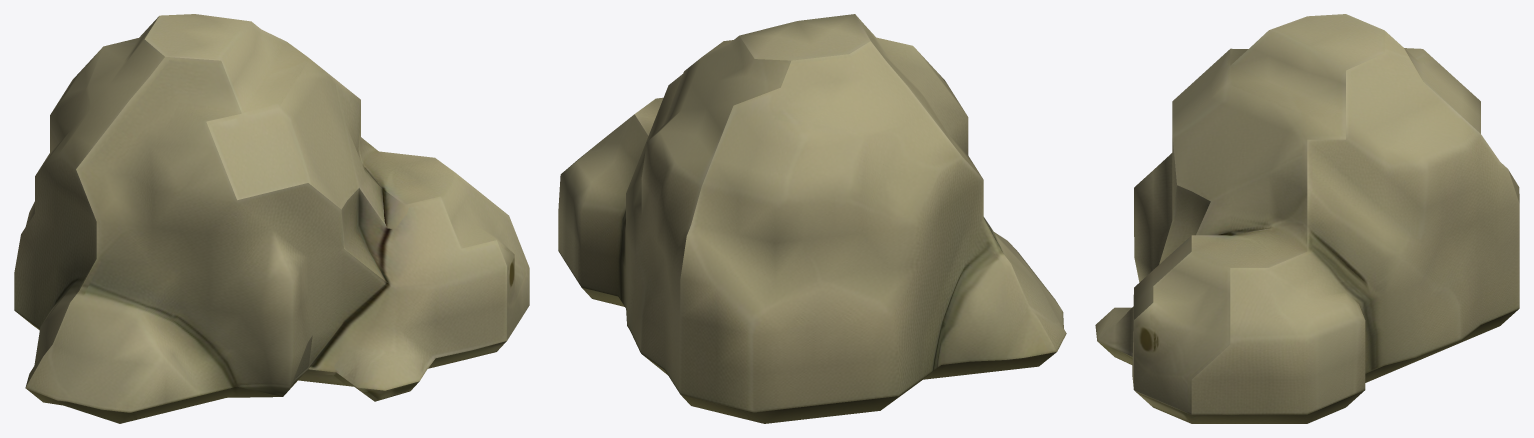
Rendered from rock_5.glb.
The picture shows the model from 3 angles, left to right: view 1: azimuth 30°, elevation 25°; view 2: azimuth 150°, elevation 25°; view 3: azimuth 270°, elevation 25°; orthographic projection. The views are drawn at different scales.
Visible parts, largest first — view 1: tmp7q1glar2.ply; view 2: tmp7q1glar2.ply; view 3: tmp7q1glar2.ply.
Boxes of the visible parts, x1,y1,x2,y2 form: tmp7q1glar2.ply: [14, 14, 529, 423]; tmp7q1glar2.ply: [558, 14, 1066, 423]; tmp7q1glar2.ply: [1095, 14, 1519, 423].
Bounding box in the file's own units: 1.55 × 0.951 × 1.31.
1 material, 1 textured.
